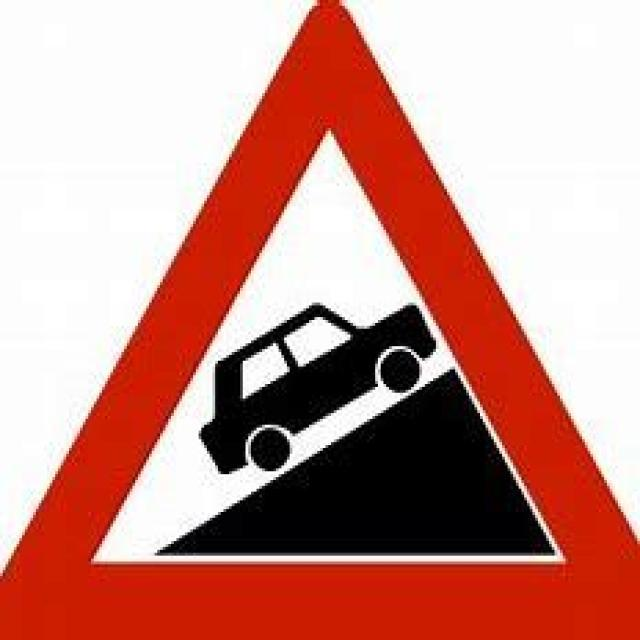steep ascent: (22, 20, 624, 623)
